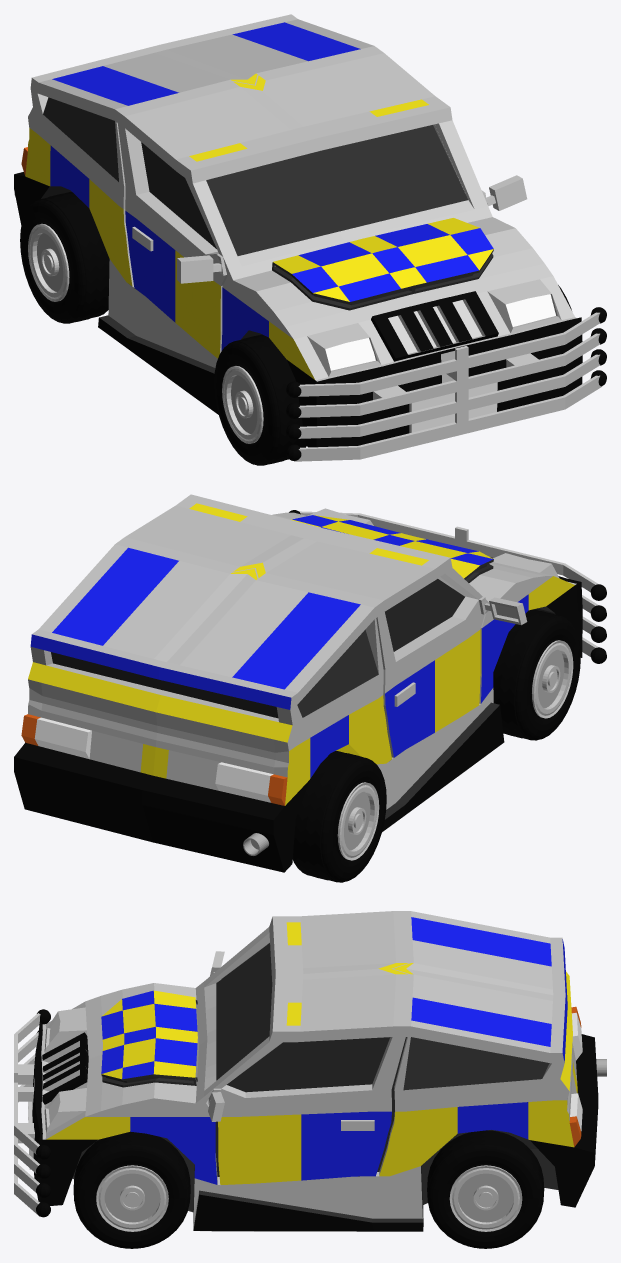
3 views of the same model, one above another, from view 1: azimuth 30°, elevation 25°; view 2: azimuth 150°, elevation 25°; view 3: azimuth 270°, elevation 25° (orthographic). The views are drawn at different scales.
Visible parts, largest first — view 1: BODY45B, WHEEL.004, WHEEL.001; view 2: BODY45B, WHEEL.004, WHEEL.001; view 3: BODY45B, WHEEL.002, WHEEL.003.
Boxes of the visible parts, left/top/right/bottom form: BODY45B: left=14, top=14, right=606, bottom=461; WHEEL.004: left=20, top=192, right=109, bottom=323; WHEEL.001: left=214, top=334, right=306, bottom=465; BODY45B: left=14, top=494, right=606, bottom=872; WHEEL.004: left=292, top=751, right=386, bottom=882; WHEEL.001: left=493, top=609, right=580, bottom=740; BODY45B: left=14, top=911, right=598, bottom=1231; WHEEL.002: left=427, top=1130, right=544, bottom=1248; WHEEL.003: left=73, top=1131, right=190, bottom=1248.
Bounding box in the file's own units: 131 × 85.08 × 213.
